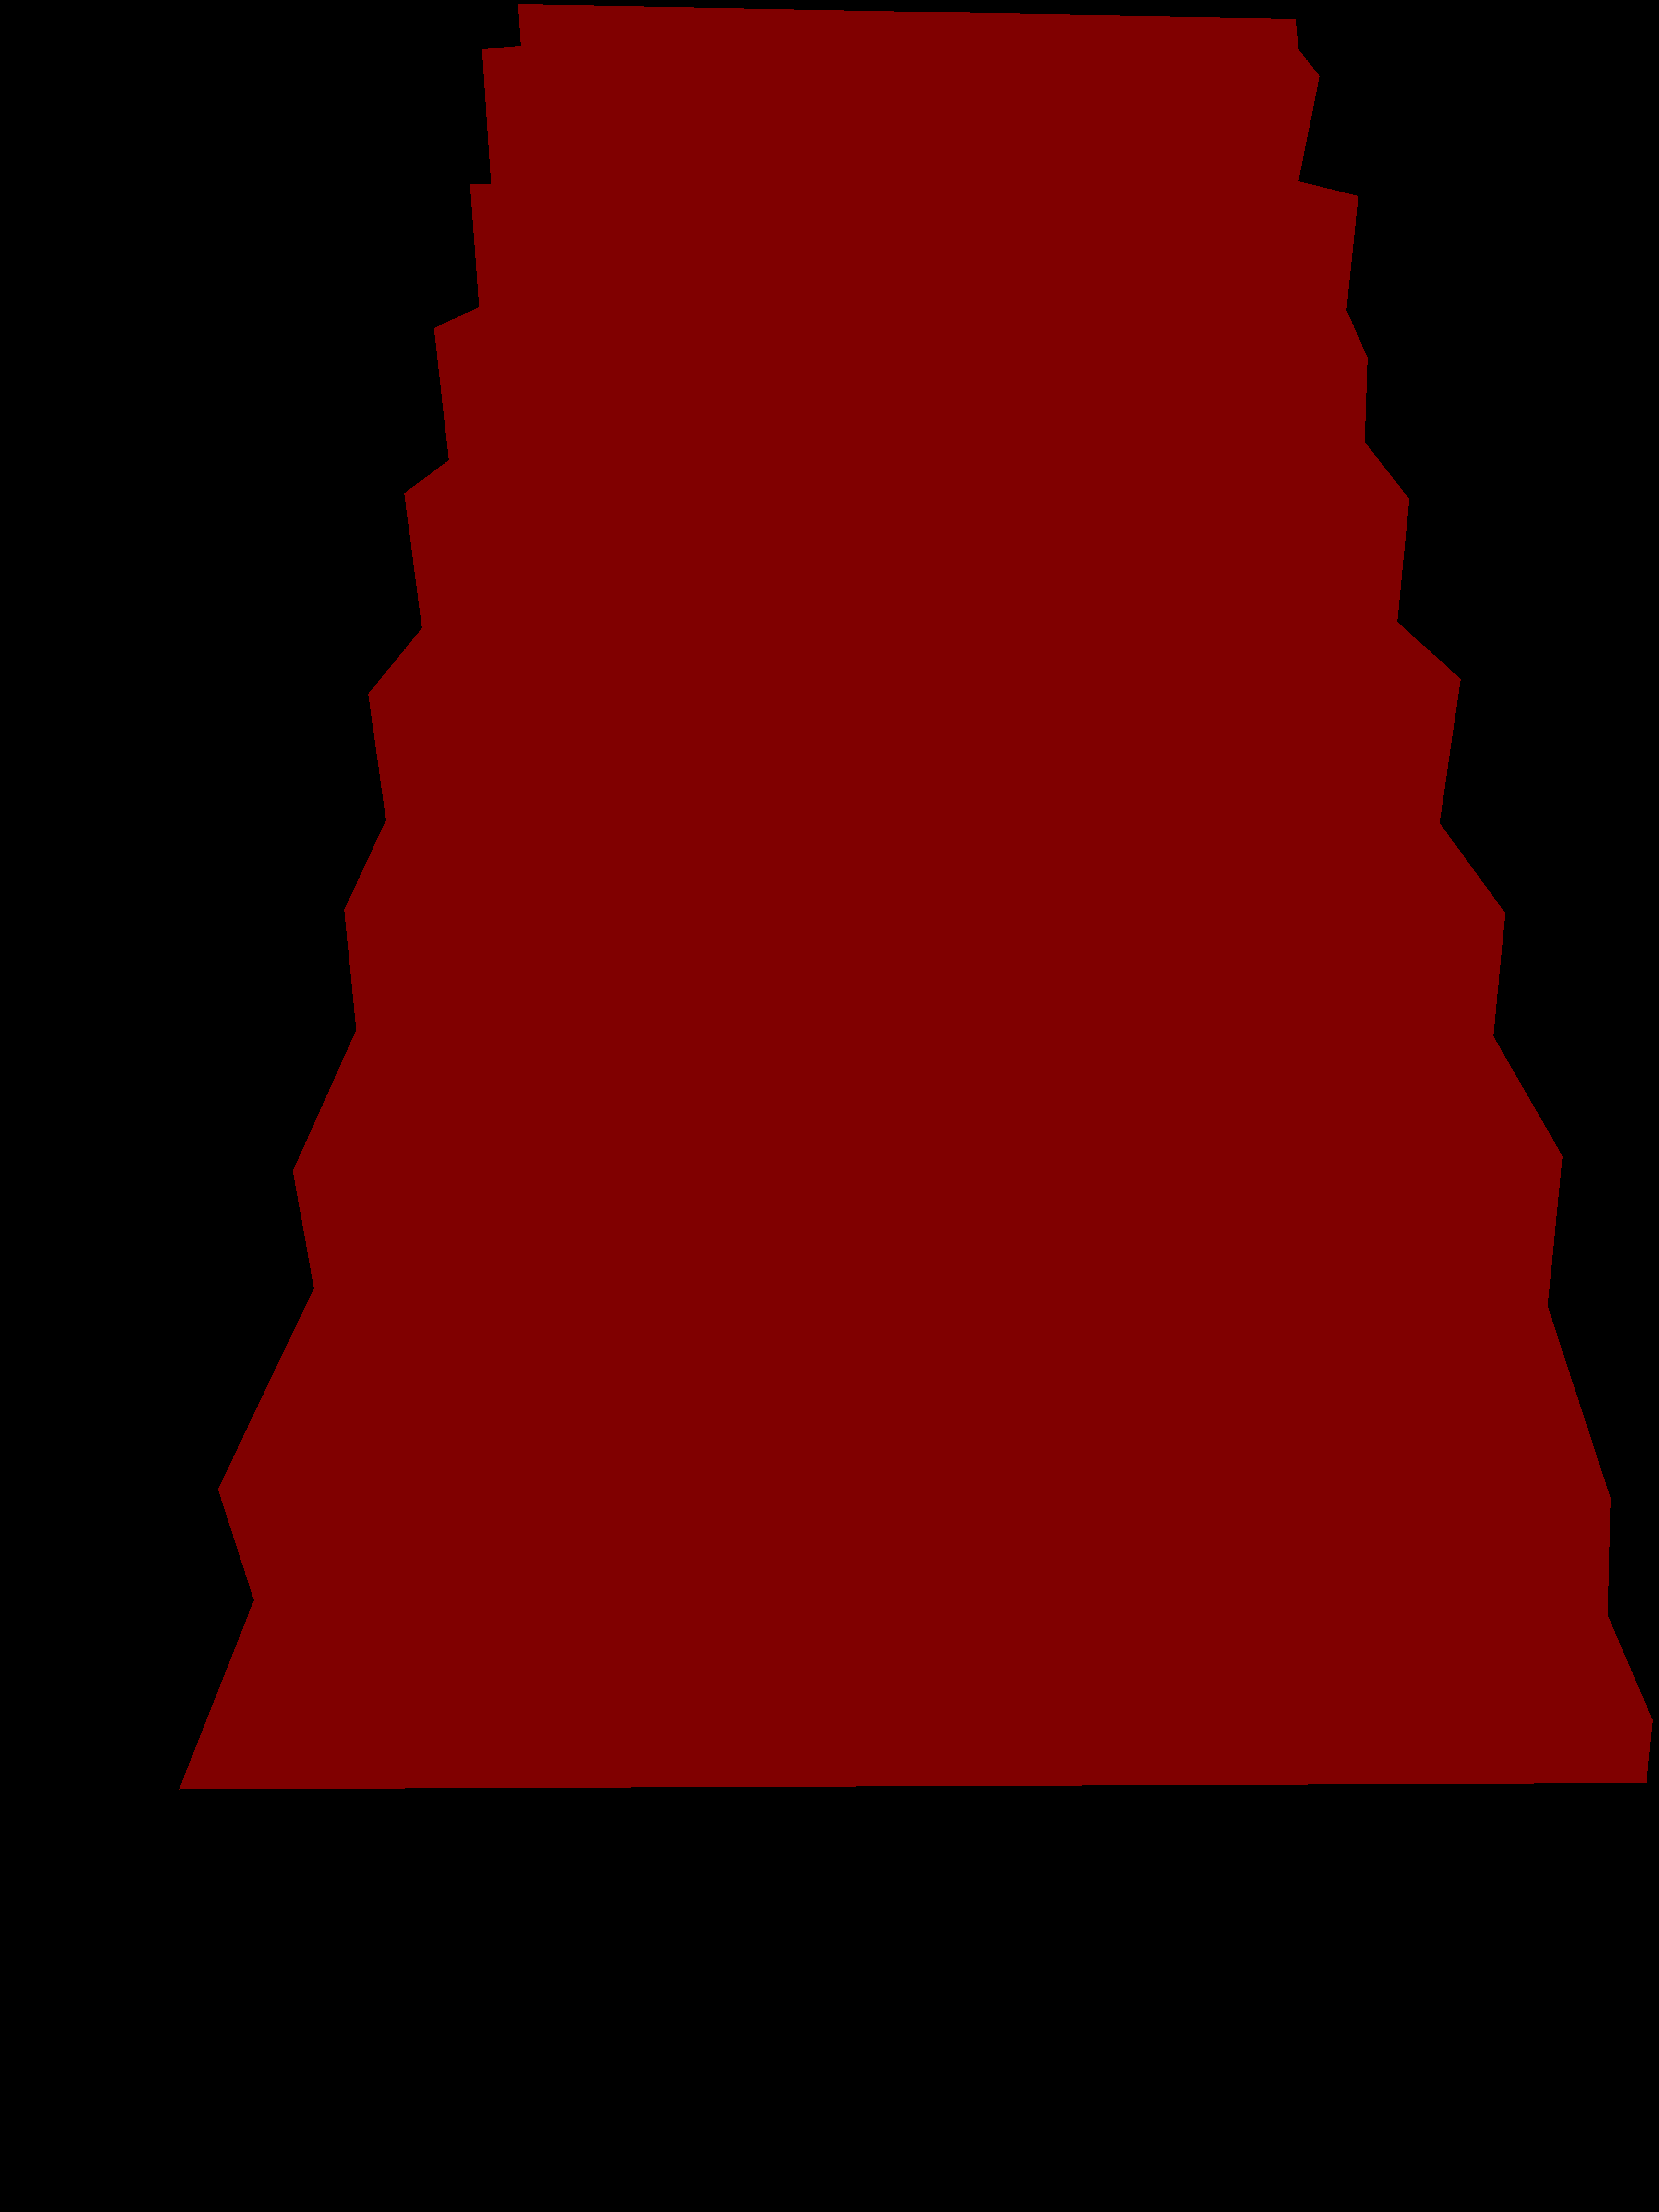stair: (179, 3, 1652, 1789)
